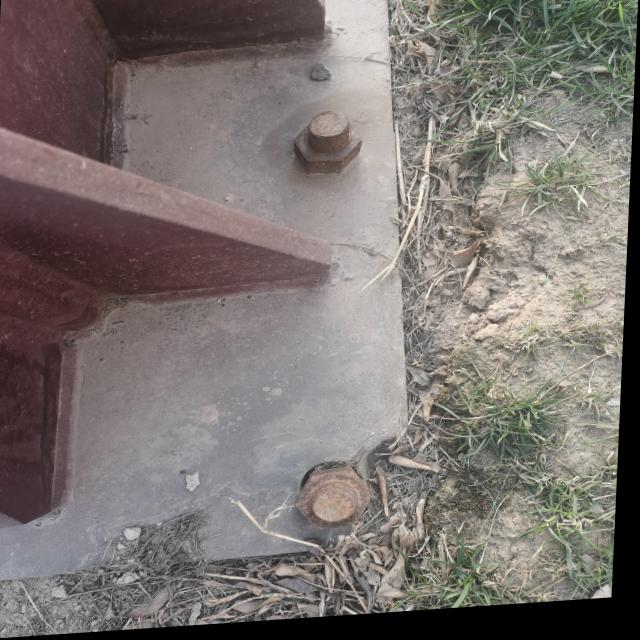Rusty bolt: (297, 472, 377, 538), (293, 113, 365, 182)
